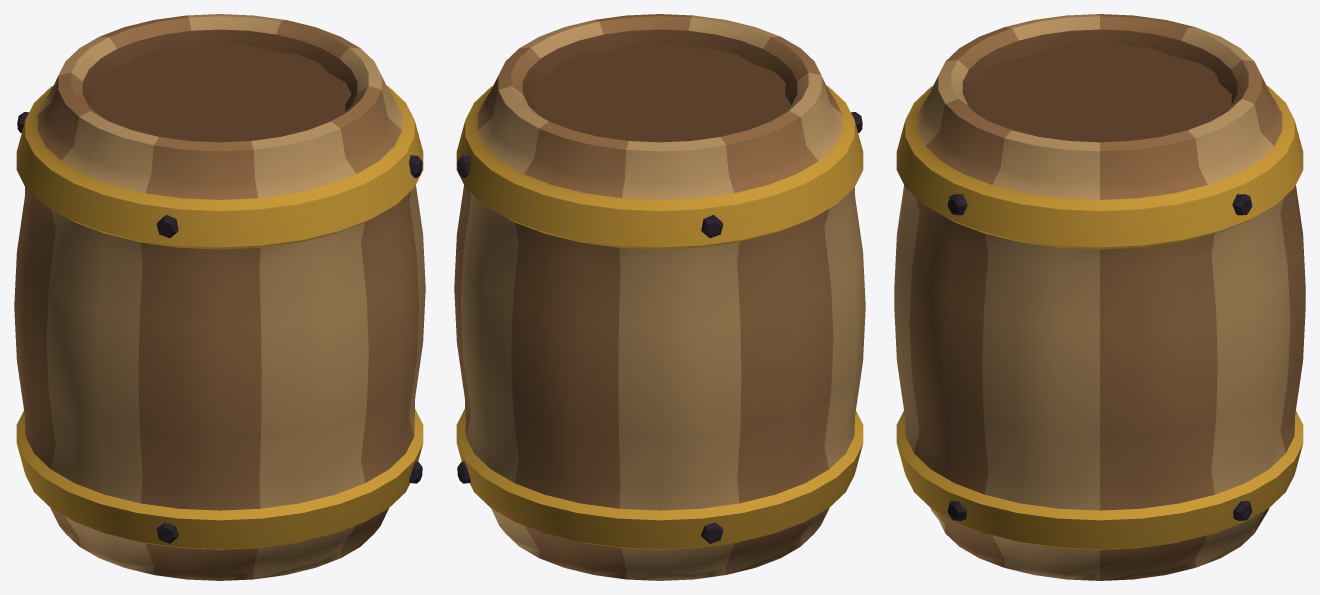
The model's file is Barrel_27.glb.
3 views of the same model, side by side, from view 1: azimuth 30°, elevation 25°; view 2: azimuth 150°, elevation 25°; view 3: azimuth 270°, elevation 25° (orthographic).
Parts seen in each view (by area): view 1: Barrel_27; view 2: Barrel_27; view 3: Barrel_27.
Boxes of the visible parts, <box> form: Barrel_27: <box>14,14,425,580</box>; Barrel_27: <box>454,14,865,580</box>; Barrel_27: <box>894,14,1305,580</box>.
Size of the model in its own units: 2.16 by 2.55 by 2.18.
